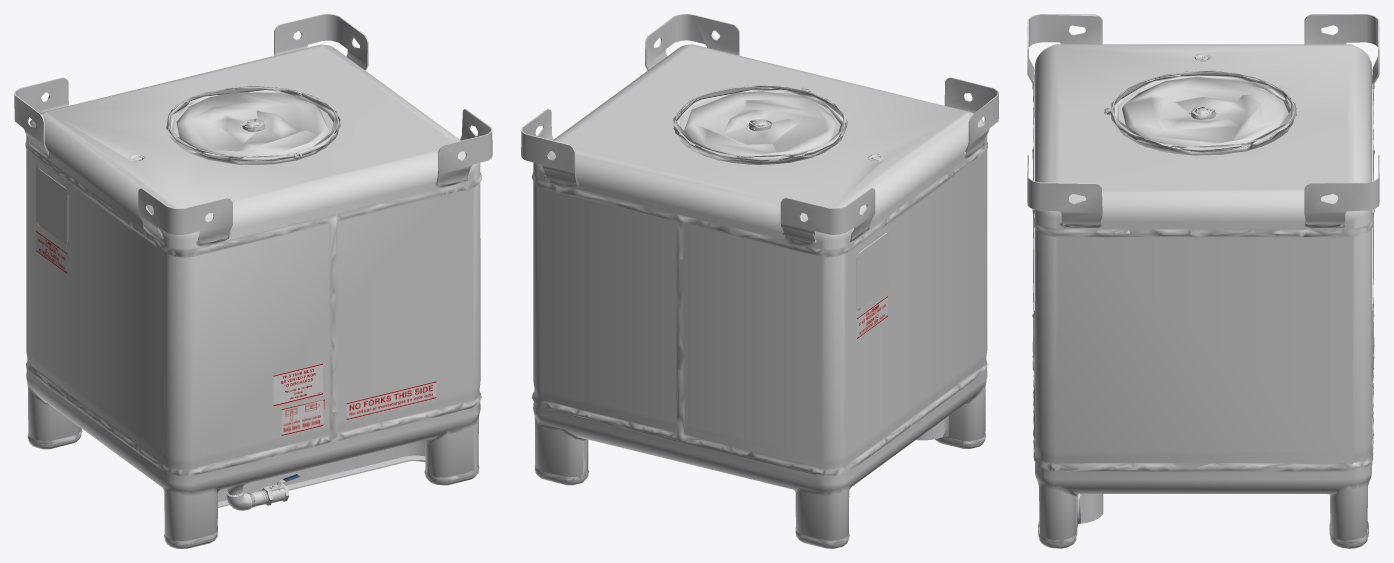
The model's file is ibc.glb.
3 views of the same model, side by side, from view 1: azimuth 30°, elevation 25°; view 2: azimuth 150°, elevation 25°; view 3: azimuth 270°, elevation 25° (orthographic). The views are drawn at different scales.
Parts seen in each view (by area): view 1: body; view 2: body; view 3: body.
Boxes of the visible parts, bbox=[...] form: body: bbox=[14, 14, 492, 548]; body: bbox=[521, 14, 998, 548]; body: bbox=[1027, 14, 1379, 548].
Bounding box in the file's own units: 1.26 × 1.3 × 1.11.
Materials: 4 (3 with a texture image).
